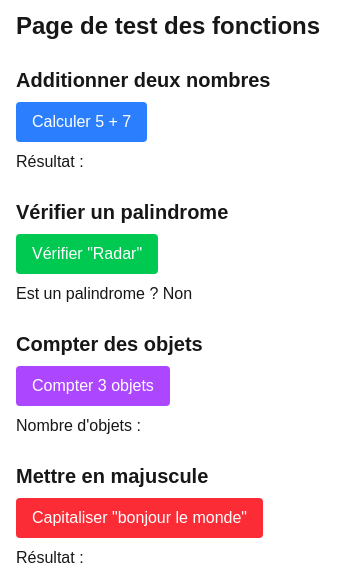
Test: TestPage UI › met en majuscule chaque mot de la phrase
Click the button "Capitaliser \"bonjour le monde\"". click: (140,518)
box: [16,498,263,538]
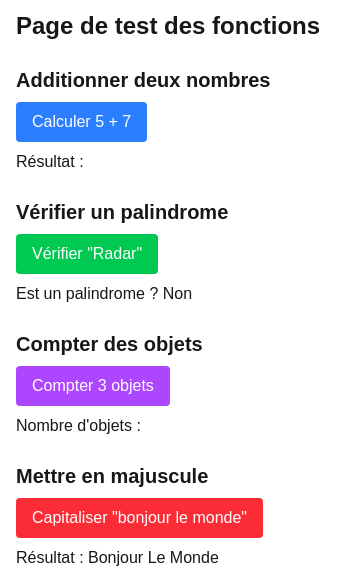
Result: the text "Résultat : Bonjour Le Monde" is shown at [16,549,219,566]
